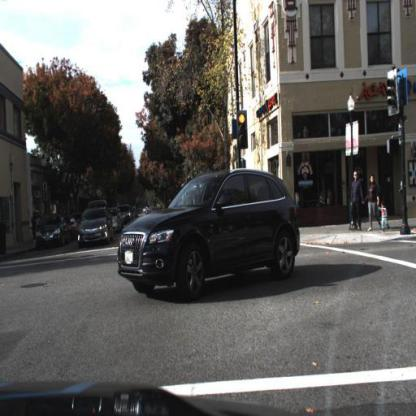car: (117, 167, 302, 308), (77, 207, 115, 251), (38, 216, 70, 248)
pedestrian: (347, 171, 367, 232), (365, 172, 382, 233), (368, 164, 380, 234), (378, 200, 394, 236), (30, 211, 38, 247)
trafficLight: (238, 112, 250, 153)
